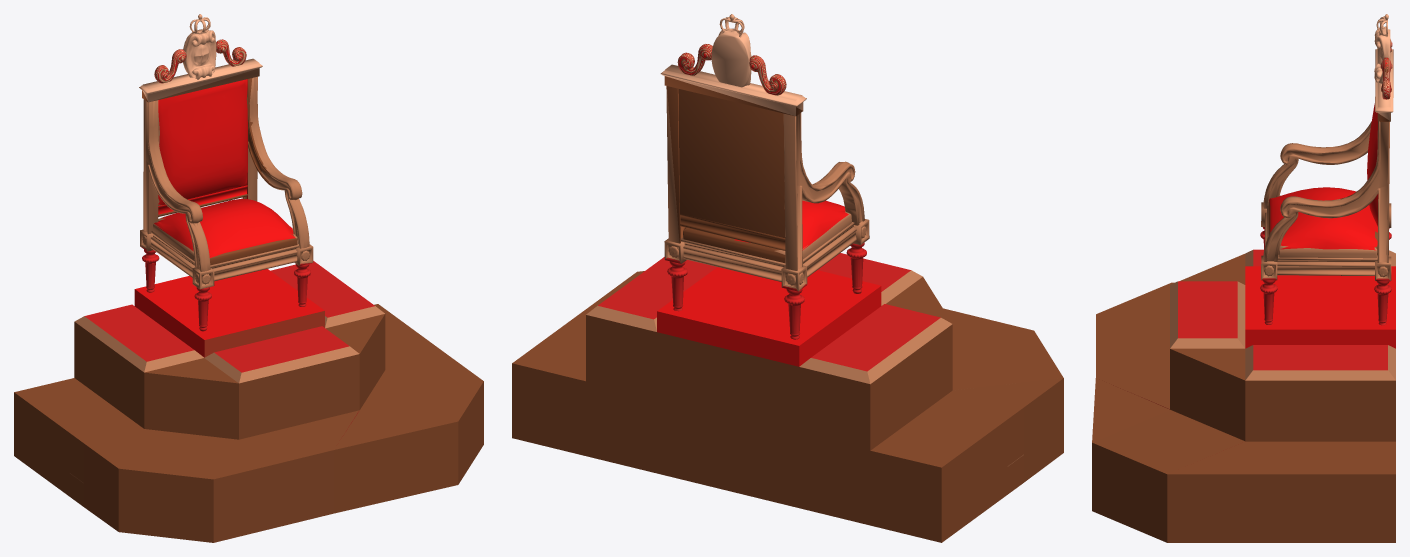
File: TRONOYESCALERA.fbx
3 views of the same model, side by side, from view 1: azimuth 30°, elevation 25°; view 2: azimuth 150°, elevation 25°; view 3: azimuth 270°, elevation 25° (orthographic). The views are drawn at different scales.
Visible parts, largest first — view 1: Cube.001, trono; view 2: Cube.001, trono; view 3: Cube.001, trono.
Boxes of the visible parts, bbox=[...] form: Cube.001: bbox=[14, 261, 483, 542]; trono: bbox=[139, 14, 313, 331]; Cube.001: bbox=[512, 253, 1063, 542]; trono: bbox=[660, 14, 869, 339]; Cube.001: bbox=[1092, 249, 1395, 542]; trono: bbox=[1260, 14, 1393, 325].
Size of the model in its own units: 5138 by 5402 by 3439.
Materials: 1 (1 with a texture image).
